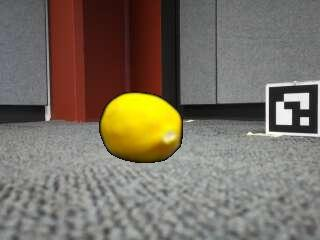lemon: (100, 94, 181, 163)
